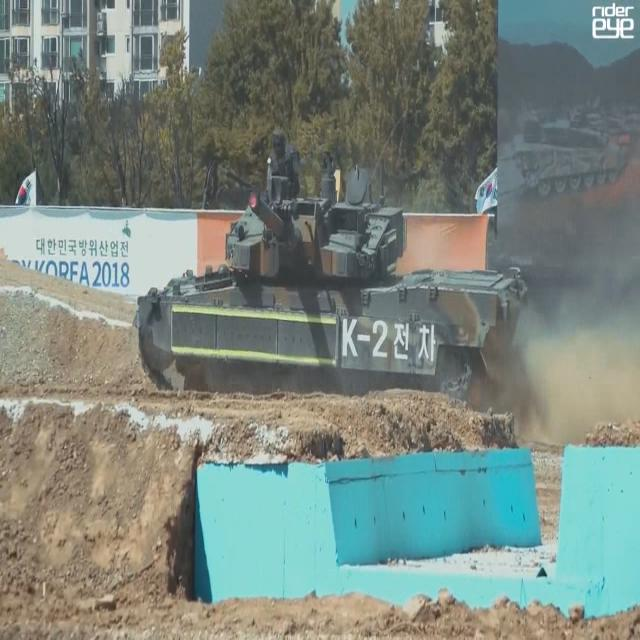korea tank: (131, 125, 529, 423)
